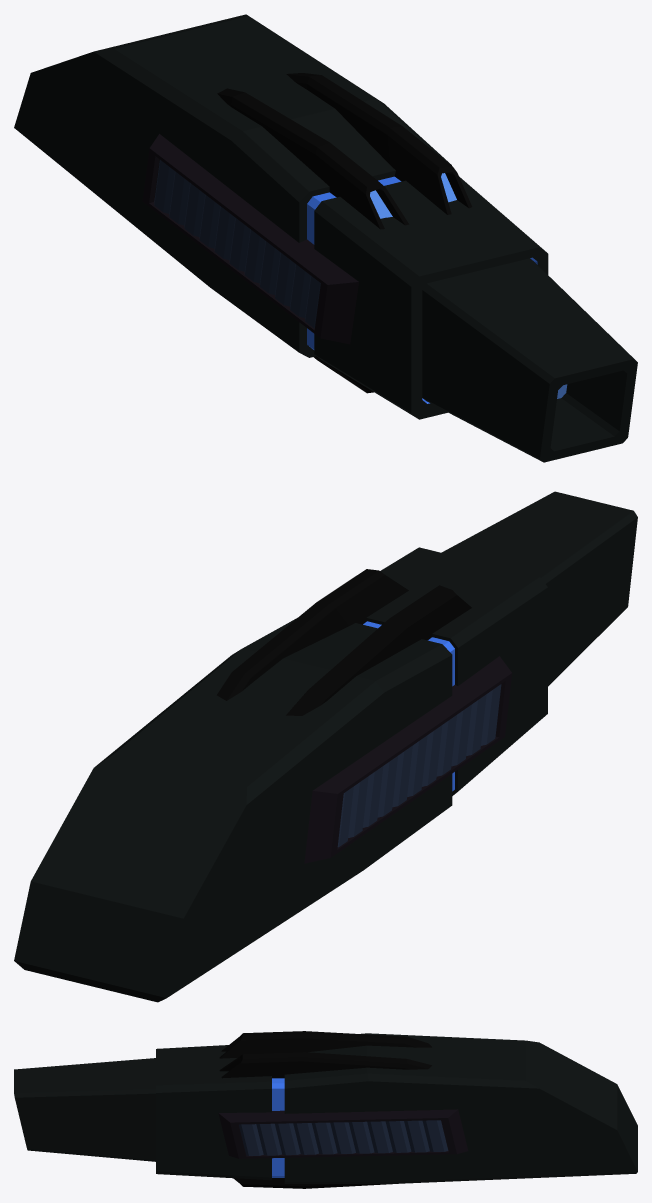
The model's file is Son (3).fbx.
3 renders of one model, top to bottom at view 1: azimuth 30°, elevation 25°; view 2: azimuth 150°, elevation 25°; view 3: azimuth 270°, elevation 25°, orthographic. The views are drawn at different scales.
Parts seen in each view (by area): view 1: Cube.002; view 2: Cube.002; view 3: Cube.002.
Part boxes in pixels (x1,y1,x2,y2): Cube.002: (14,14,637,462); Cube.002: (14,491,637,1002); Cube.002: (14,1031,637,1188).
Size of the model in its own units: 145 by 158 by 670.
